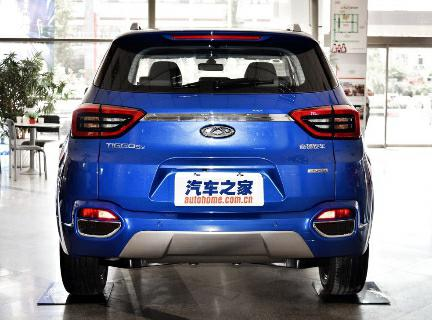奇瑞-瑞虎7: (54, 21, 378, 302)
